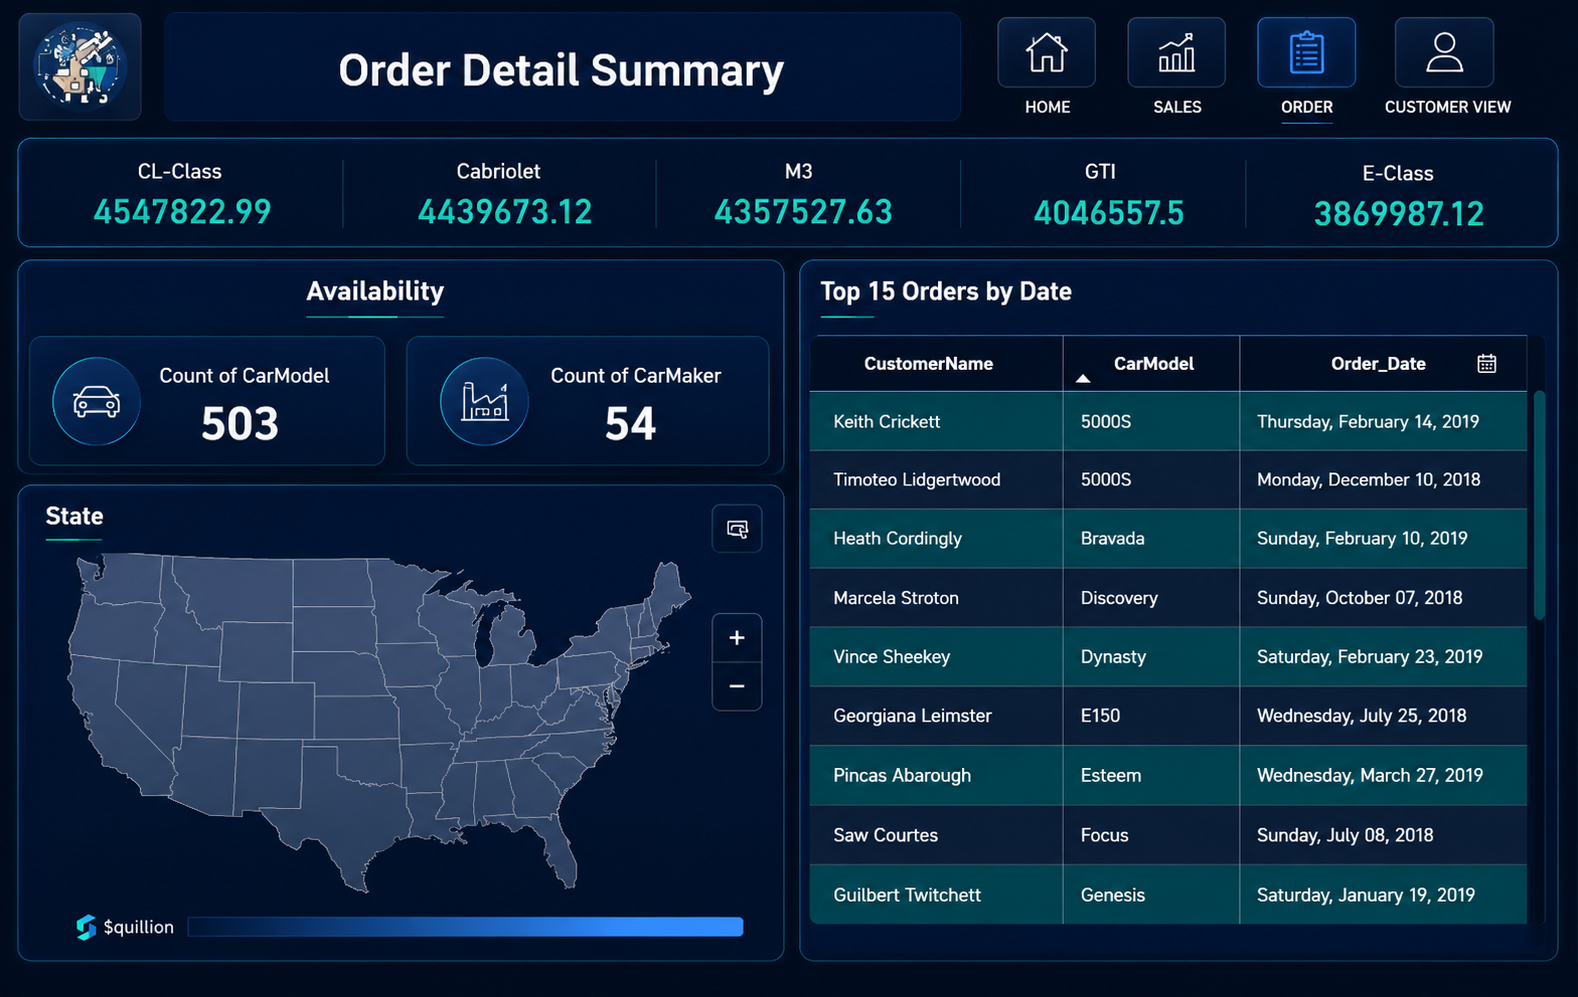

Layout of this report page (visuals, bound fields, positions):
{"tool":"powerbi","page":{"name":"Operations & Delivery","canvas":[1280,720],"ordinal":1},"visuals":[{"type":"textbox","box":[176.1,15.7,700.9,62.7],"z":0},{"type":"cardVisual","fields":{"Data":["Count(cars_data.CarModel)"]},"box":[24.4,202.7,239.9,111.6],"z":1000},{"type":"cardVisual","fields":{"Data":["Count(cars_data.CarMaker)"]},"box":[354.1,202.7,245,111.6],"z":2000},{"type":"textbox","box":[24.1,138.7,583.9,59.1],"z":3000},{"type":"MapBySquillion","fields":{"measure":["Sum(cars_data.Sales)"],"category":["cars_data.State"]},"box":[24.1,325.7,583.9,382.4],"z":4000},{"type":"tableEx","title":"Top 15 Orders by Date","fields":{"Values":["cars_data.CustomerName","cars_data.CarModel","DateMaster.Order_Date"]},"box":[623.7,138.7,645.4,518.8],"z":5000},{"type":"ScrollingTextVisual1448795304508","fields":{"Measure Absolute":["Sum(cars_data.CarPrice)"],"Category":["cars_data.CarModel"]},"box":[21.6,81.8,1235.6,57.1],"z":6000},{"type":"image","box":[24.1,3.6,108.6,79.6],"z":7000},{"type":"image","box":[1011,15.7,61.5,62.7],"z":8000},{"type":"image","box":[932.6,15.7,67.6,62.7],"z":9000},{"type":"image","box":[1083.4,15.7,65.1,62.7],"z":10000},{"type":"image","box":[1161.8,15.7,66.4,62.7],"z":11000}]}

Visuals, with their boxes on the page's 1280x720 design canvas (x1, y1, x2, y2). These are canvas units, not pixel positions in the 1578x997 screenshot, which may show the page scaled, cropped or inside an application window:
textbox: rect(176, 16, 877, 78)
cardVisual - Count(cars_data.CarModel): rect(24, 203, 264, 314)
cardVisual - Count(cars_data.CarMaker): rect(354, 203, 599, 314)
textbox: rect(24, 139, 608, 198)
MapBySquillion - Sum(cars_data.Sales) x cars_data.State: rect(24, 326, 608, 708)
"Top 15 Orders by Date" tableEx: rect(624, 139, 1269, 658)
ScrollingTextVisual1448795304508 - Sum(cars_data.CarPrice) x cars_data.CarModel: rect(22, 82, 1257, 139)
image: rect(24, 4, 133, 83)
image: rect(1011, 16, 1072, 78)
image: rect(933, 16, 1000, 78)
image: rect(1083, 16, 1148, 78)
image: rect(1162, 16, 1228, 78)
